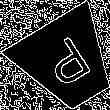P_SE: (37, 31, 98, 94)
